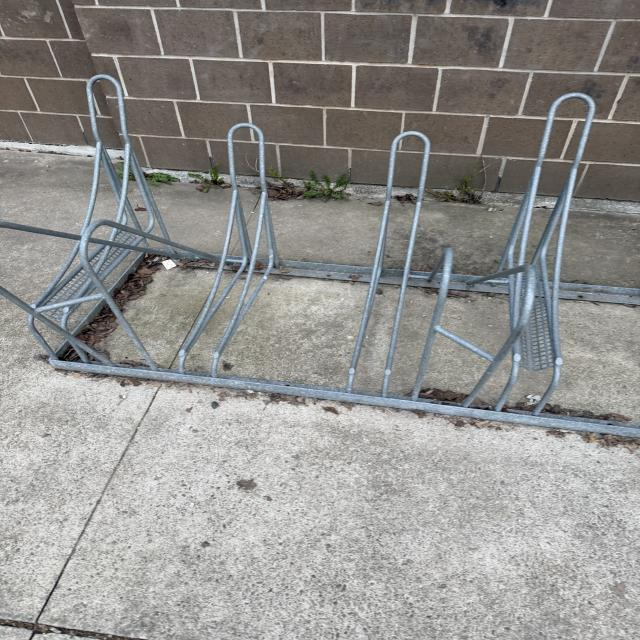Bicycle Rack: (0, 74, 640, 437)
